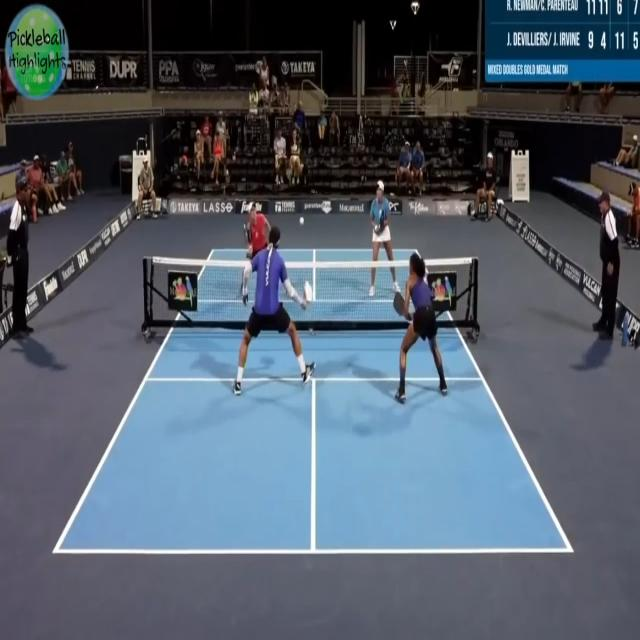Court: (56, 245, 573, 553)
ball: (296, 212, 309, 230)
